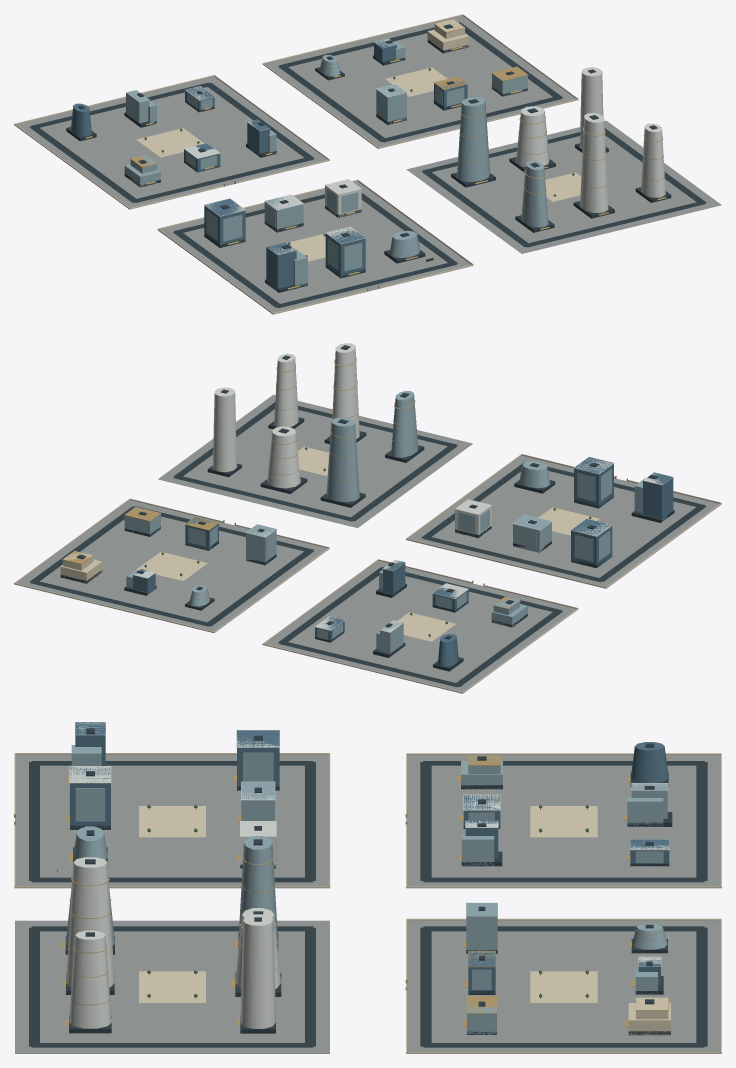
File: GC-TILE-07-07.glb
3 views of the same model, one above another, from view 1: azimuth 30°, elevation 25°; view 2: azimuth 150°, elevation 25°; view 3: azimuth 270°, elevation 25° (orthographic). The views are drawn at different scales.
Parts seen in each view (by area): view 1: GC-TILE-07-07-paving, GC-TILE-07-07-dark, GC-TILE-07-07-glass, GC-TILE-07-07-white, GC-TILE-07-07-ivory, GC-TILE-07-07-blue, GC-TILE-07-07-gold; view 2: GC-TILE-07-07-paving, GC-TILE-07-07-dark, GC-TILE-07-07-glass, GC-TILE-07-07-white, GC-TILE-07-07-ivory, GC-TILE-07-07-blue, GC-TILE-07-07-gold; view 3: GC-TILE-07-07-paving, GC-TILE-07-07-dark, GC-TILE-07-07-glass, GC-TILE-07-07-ivory, GC-TILE-07-07-white, GC-TILE-07-07-blue, GC-TILE-07-07-gold.
Part boxes in pixels (x1,y1,x2,y2): GC-TILE-07-07-paving: (16,15,721,312); GC-TILE-07-07-dark: (30,22,706,307); GC-TILE-07-07-glass: (124,41,548,287); GC-TILE-07-07-white: (126,38,665,255); GC-TILE-07-07-ivory: (14,14,581,314); GC-TILE-07-07-blue: (71,39,467,291); GC-TILE-07-07-gold: (85,19,666,291); GC-TILE-07-07-paving: (16,395,719,692); GC-TILE-07-07-dark: (30,345,706,687); GC-TILE-07-07-glass: (124,391,645,654); GC-TILE-07-07-white: (133,343,673,632); GC-TILE-07-07-ivory: (14,446,721,693); GC-TILE-07-07-blue: (133,457,673,666); GC-TILE-07-07-gold: (62,357,627,657); GC-TILE-07-07-paving: (15,755,720,1053); GC-TILE-07-07-dark: (29,728,707,1047); GC-TILE-07-07-glass: (65,745,667,1034); GC-TILE-07-07-ivory: (14,753,721,1053); GC-TILE-07-07-white: (66,722,669,1028); GC-TILE-07-07-blue: (70,722,669,994); GC-TILE-07-07-gold: (14,755,668,1026).
Size of the model in its own units: 759 by 149 by 760.
